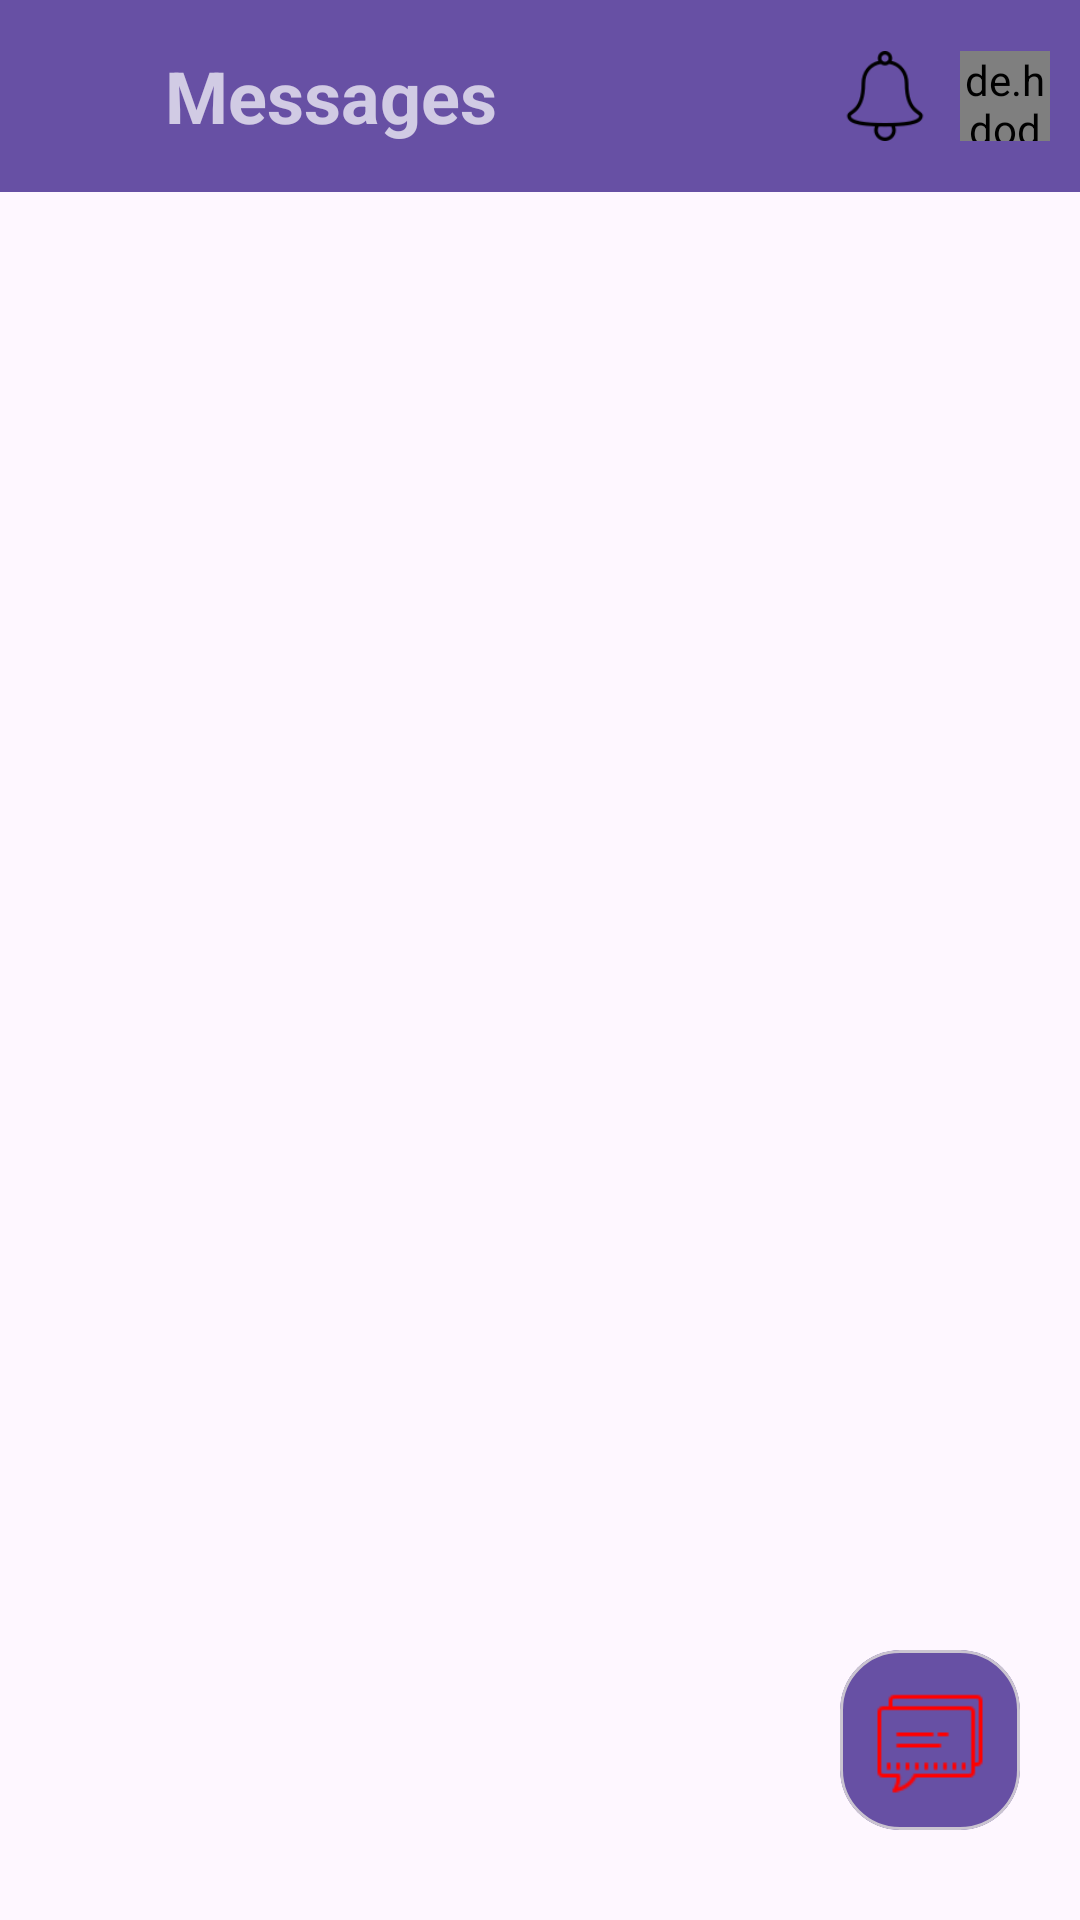

Screen size 1080px×1920px. Icon name, then its center in pixels as [x,y]:
chat: [930,1743]
notification: [885,96]
